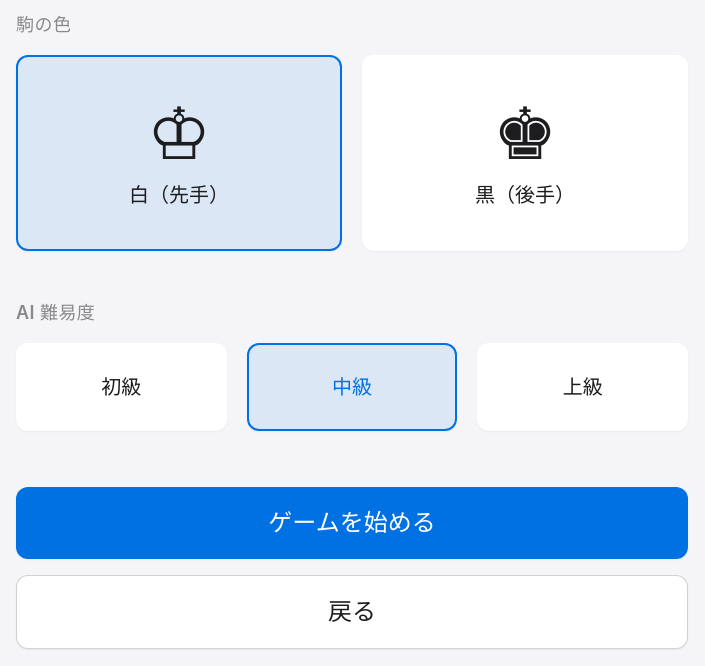
it: App routing › 設定画面の戻るボタンが機能する
(page scrolled)
Click the button "戻る": point(352, 612) [16,575,688,649]
(page scrolled)
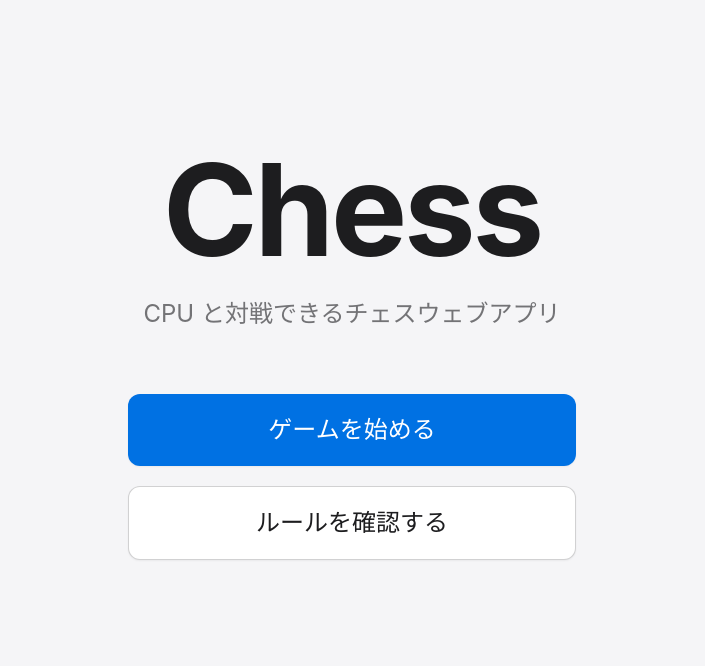
Expected: the heading "Chess" is shown, [163,146,541,274]
